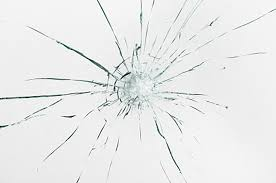crack: (11, 3, 269, 176)
